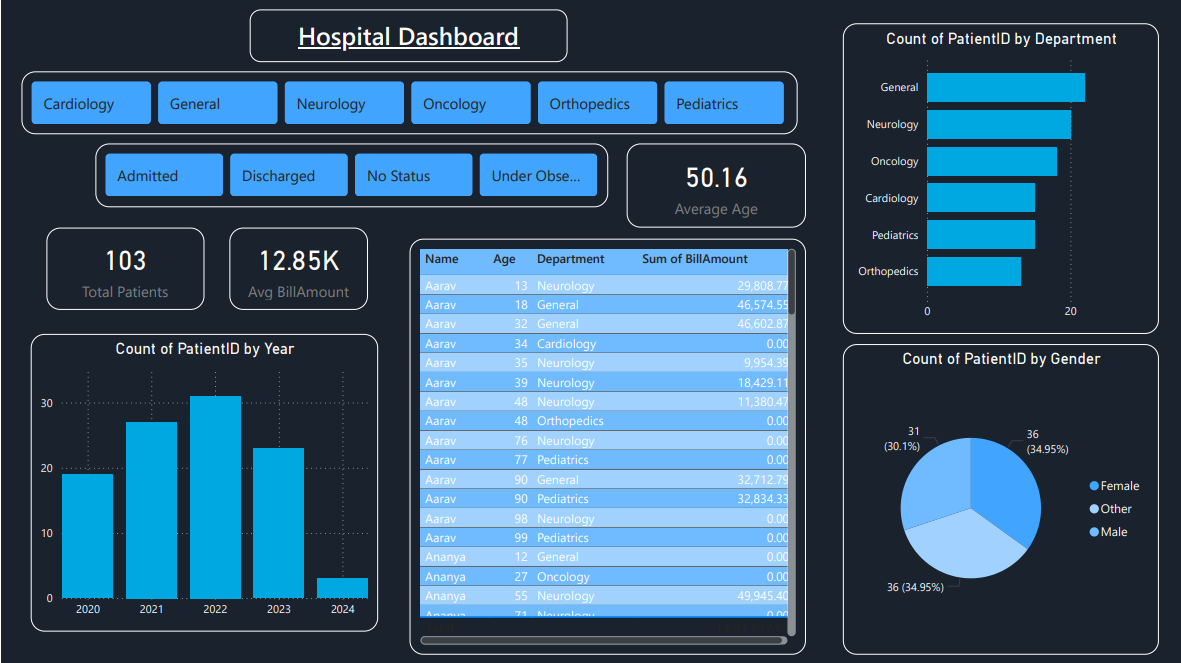

This screenshot's page, from the dashboard's own definition file:
{"tool":"powerbi","page":{"name":"Page 1","canvas":[1280,720],"ordinal":0},"visuals":[{"type":"barChart","fields":{"Category":["hospital_data(in).Department"],"Y":["hospital_data(in).PatientID"]},"box":[911.2,24.7,341.7,336.2],"z":0},{"type":"pieChart","fields":{"Category":["hospital_data(in).Gender"],"Y":["hospital_data(in).PatientID"]},"box":[911.2,371.9,341.7,336.2],"z":1000},{"type":"clusteredColumnChart","fields":{"Category":["hospital_data(in).AdmissionDate.Variation.Date Hierarchy.Year","hospital_data(in).AdmissionDate.Variation.Date Hierarchy.Quarter","hospital_data(in).AdmissionDate.Variation.Date Hierarchy.Month","hospital_data(in).AdmissionDate.Variation.Date Hierarchy.Day"],"Y":["hospital_data(in).PatientID"]},"box":[31.6,360.9,376,322.5],"z":1001},{"type":"tableEx","fields":{"Values":["hospital_data(in).Name","hospital_data(in).Age","hospital_data(in).Department","hospital_data(in).BillAmount"]},"box":[441.9,258,429.5,450.1],"z":1002},{"type":"advancedSlicerVisual","fields":{"Values":["hospital_data(in).Department"]},"box":[22,76.8,839.8,68.6],"z":1003},{"type":"advancedSlicerVisual","fields":{"Values":["hospital_data(in).Status"]},"box":[101.5,155.1,555.7,68.6],"z":1004},{"type":"card","fields":{"Values":["hospital_data(in).PatientID"]},"box":[49.4,245.6,170.2,89.2],"z":1005},{"type":"card","fields":{"Values":["hospital_data(in).BillAmount"]},"box":[247,245.6,149.6,89.2],"z":1006},{"type":"card","fields":{"Values":["hospital_data(in).Average Age"]},"box":[676.5,155.1,194.9,90.6],"z":1007},{"type":"textbox","box":[269,9.6,344.4,57.6],"z":1008}]}

Visuals, with their boxes in screenshot pixels (x1, y1, x2, y2), scaled from the page's 1280x720 canvas onto the 1181x663 screenshot:
barChart - hospital_data(in).Department x hospital_data(in).PatientID: l=841, t=23, r=1156, b=332
pieChart - hospital_data(in).Gender x hospital_data(in).PatientID: l=841, t=342, r=1156, b=652
clusteredColumnChart - hospital_data(in).AdmissionDate.Variation.Date Hierarchy.Year x hospital_data(in).AdmissionDate.Variation.Date Hierarchy.Quarter: l=29, t=332, r=376, b=629
tableEx - hospital_data(in).Name x hospital_data(in).Age: l=408, t=238, r=804, b=652
advancedSlicerVisual - hospital_data(in).Department: l=20, t=71, r=795, b=134
advancedSlicerVisual - hospital_data(in).Status: l=94, t=143, r=606, b=206
card - hospital_data(in).PatientID: l=46, t=226, r=203, b=308
card - hospital_data(in).BillAmount: l=228, t=226, r=366, b=308
card - hospital_data(in).Average Age: l=624, t=143, r=804, b=226
textbox: l=248, t=9, r=566, b=62
